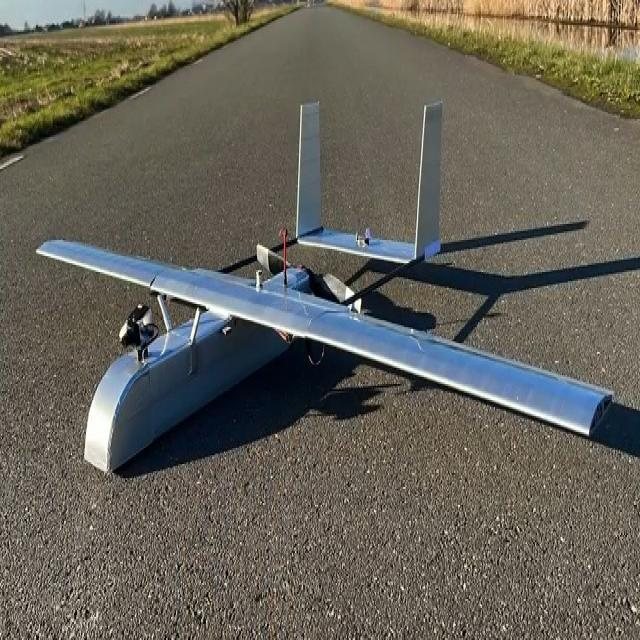drones: (34, 98, 616, 486)
